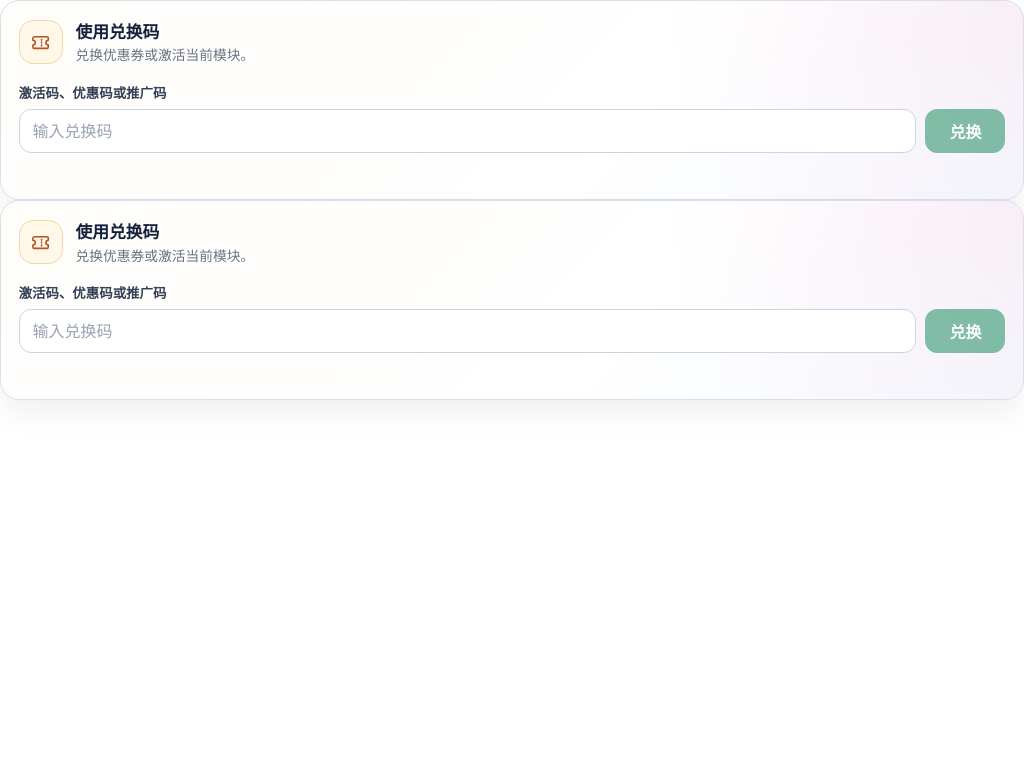
Test: CheckoutCodeRedemption › keeps labels and dialog title IDs unique across multiple instances
In the 1st field labelled "激活码、优惠码或推广码": (467, 131) [19, 109, 916, 153], type "REF"
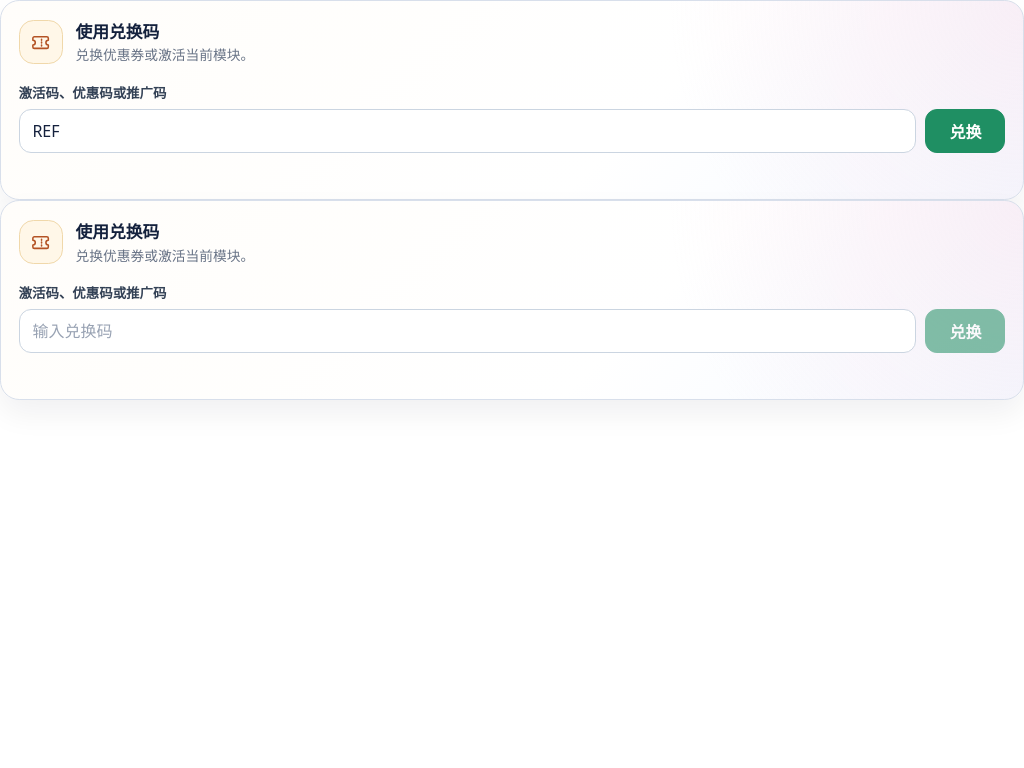
In the 2nd field labelled "激活码、优惠码或推广码": (467, 331) [19, 309, 916, 353], type "REF"
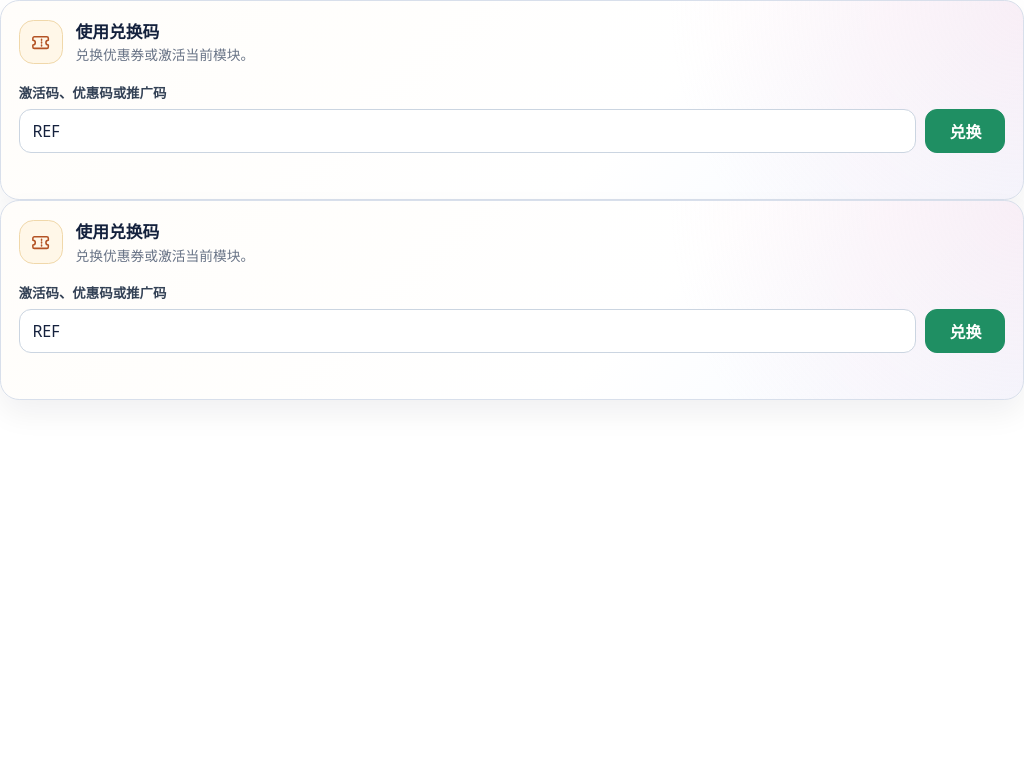
Click the 1st button "兑换": (965, 131) [925, 109, 1005, 153]
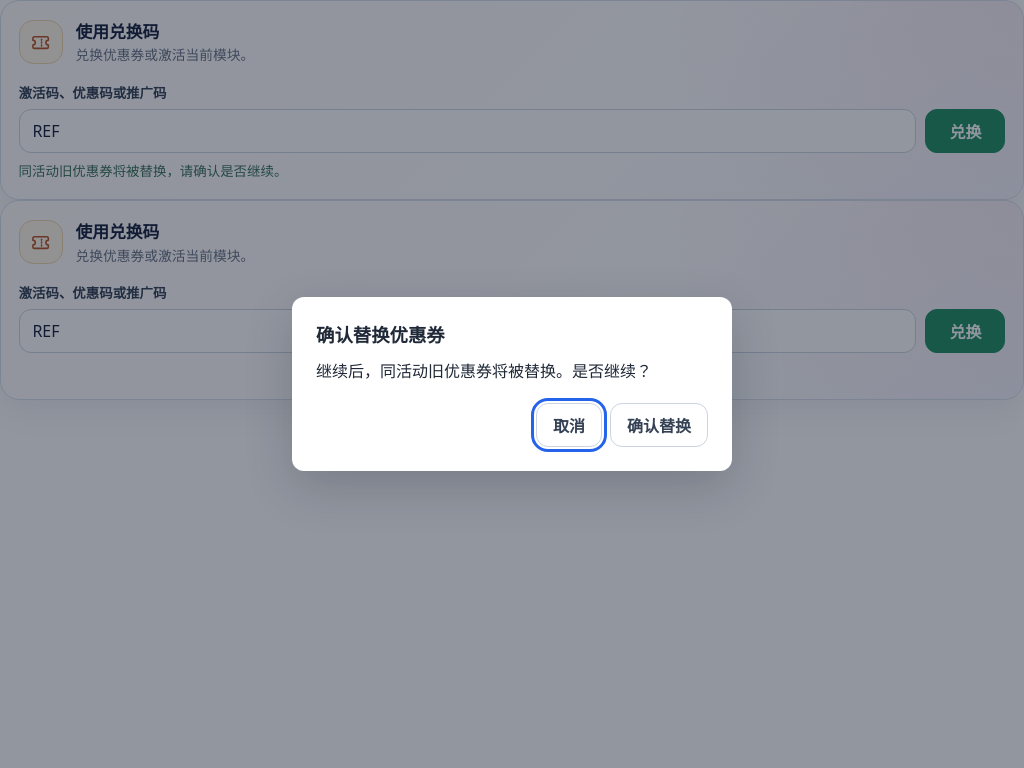
Check: the heading "确认替换优惠券" is shown, box [316, 322, 445, 347]
